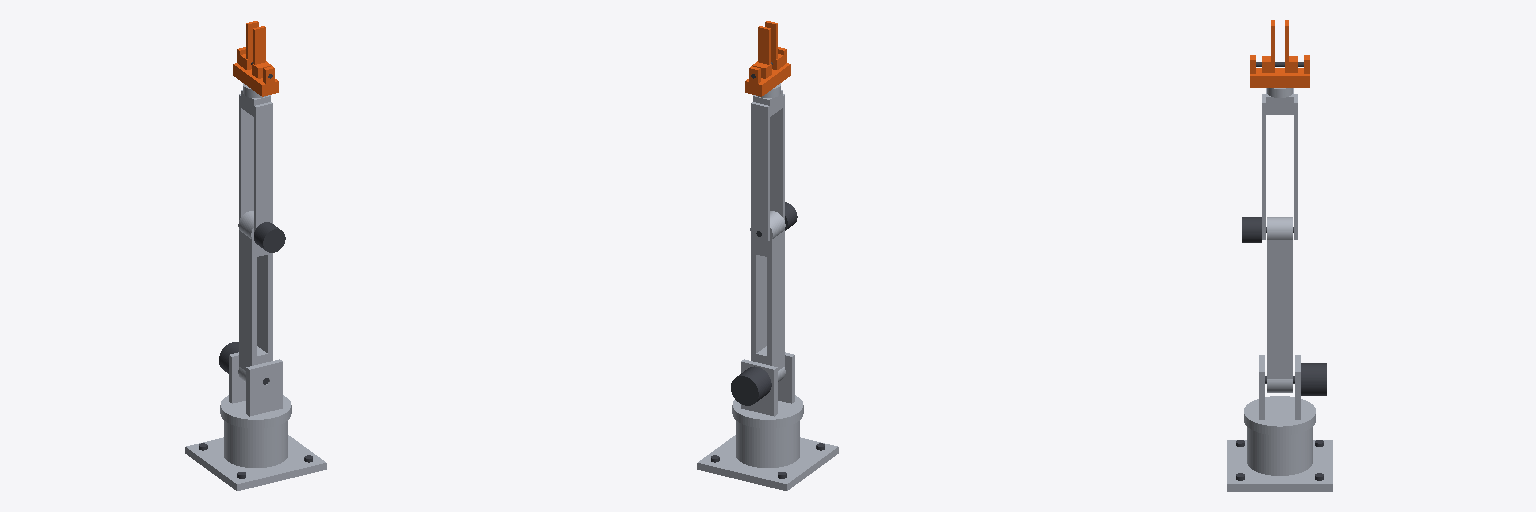
robot.urdf — arm4:
<?xml version='1.0' encoding='utf-8'?>
<robot name="arm4">
  <!-- generated by cad2urdf from cad/arm4.step — do not edit by hand -->
  <material name="aluminum">
    <color rgba="0.72 0.74 0.78 1" />
  </material>
  <material name="steel">
    <color rgba="0.30 0.31 0.34 1" />
  </material>
  <material name="pla">
    <color rgba="0.95 0.45 0.15 1" />
  </material>
  <link name="base_link">
    <inertial>
      <origin xyz="0 0 0.031319" rpy="0 0 0" />
      <mass value="2.31588" />
      <inertia ixx="0.00430245" ixy="-1.61897e-19" ixz="-2.65947e-17" iyy="0.00430245" iyz="1.01294e-19" izz="0.00567686" />
    </inertial>
    <visual name="base_link_aluminum">
      <origin xyz="0 0 0" rpy="0 0 0" />
      <geometry>
        <mesh filename="meshes/visual/base_link_aluminum.stl" />
      </geometry>
      <material name="aluminum" />
    </visual>
    <visual name="base_link_steel">
      <origin xyz="0 0 0" rpy="0 0 0" />
      <geometry>
        <mesh filename="meshes/visual/base_link_steel.stl" />
      </geometry>
      <material name="steel" />
    </visual>
    <collision name="base_link_collision_0">
      <origin xyz="0 0 0.006" rpy="0 0 0" />
      <geometry>
        <box size="0.16 0.16 0.012" />
      </geometry>
    </collision>
    <collision name="base_link_collision_1">
      <origin xyz="0 0 0.047" rpy="0 0 0" />
      <geometry>
        <cylinder radius="0.05" length="0.07" />
      </geometry>
    </collision>
  </link>
  <link name="turret">
    <inertial>
      <origin xyz="0 0.0248244 0.0551163" rpy="0 0 0" />
      <mass value="1.29147" />
      <inertia ixx="0.00267835" ixy="6.45007e-18" ixz="9.90804e-18" iyy="0.00171247" iyz="-0.000733649" izz="0.00190016" />
    </inertial>
    <visual name="turret_aluminum">
      <origin xyz="0 0 0" rpy="0 0 0" />
      <geometry>
        <mesh filename="meshes/visual/turret_aluminum.stl" />
      </geometry>
      <material name="aluminum" />
    </visual>
    <visual name="turret_steel">
      <origin xyz="0 0 0" rpy="0 0 0" />
      <geometry>
        <mesh filename="meshes/visual/turret_steel.stl" />
      </geometry>
      <material name="steel" />
    </visual>
    <collision name="turret_collision_0">
      <origin xyz="0 0 0" rpy="0 0 0" />
      <geometry>
        <mesh filename="meshes/collision/turret_0.stl" />
      </geometry>
    </collision>
    <collision name="turret_collision_1">
      <origin xyz="0 0.027 0.065" rpy="0 0 0" />
      <geometry>
        <box size="0.06 0.01 0.08" />
      </geometry>
    </collision>
    <collision name="turret_collision_2">
      <origin xyz="0 -0.027 0.065" rpy="0 0 0" />
      <geometry>
        <box size="0.06 0.01 0.08" />
      </geometry>
    </collision>
    <collision name="turret_collision_3">
      <origin xyz="0 0.052 0.078" rpy="1.5708 1.5708 0" />
      <geometry>
        <cylinder radius="0.025" length="0.04" />
      </geometry>
    </collision>
  </link>
  <link name="upper_arm">
    <inertial>
      <origin xyz="0 0 0.116984" rpy="0 0 0" />
      <mass value="0.77782" />
      <inertia ixx="0.00724199" ixy="4.01093e-18" ixz="-1.7043e-17" iyy="0.00723782" iyz="8.70378e-19" izz="0.000221003" />
    </inertial>
    <visual name="upper_arm_aluminum">
      <origin xyz="0 0 0" rpy="0 0 0" />
      <geometry>
        <mesh filename="meshes/visual/upper_arm_aluminum.stl" />
      </geometry>
      <material name="aluminum" />
    </visual>
    <visual name="upper_arm_steel">
      <origin xyz="0 0 0" rpy="0 0 0" />
      <geometry>
        <mesh filename="meshes/visual/upper_arm_steel.stl" />
      </geometry>
      <material name="steel" />
    </visual>
    <collision name="upper_arm_collision_0">
      <origin xyz="0 0 0" rpy="0 0 0" />
      <geometry>
        <mesh filename="meshes/collision/upper_arm_0.stl" />
      </geometry>
    </collision>
    <collision name="upper_arm_collision_1">
      <origin xyz="0 0 0" rpy="0 0 0" />
      <geometry>
        <mesh filename="meshes/collision/upper_arm_1.stl" />
      </geometry>
    </collision>
    <collision name="upper_arm_collision_2">
      <origin xyz="0 0 0" rpy="0 0 0" />
      <geometry>
        <mesh filename="meshes/collision/upper_arm_2.stl" />
      </geometry>
    </collision>
    <collision name="upper_arm_collision_3">
      <origin xyz="0 0 0" rpy="0 0 0" />
      <geometry>
        <mesh filename="meshes/collision/upper_arm_3.stl" />
      </geometry>
    </collision>
    <collision name="upper_arm_collision_4">
      <origin xyz="0 0 0" rpy="0 0 0" />
      <geometry>
        <mesh filename="meshes/collision/upper_arm_4.stl" />
      </geometry>
    </collision>
    <collision name="upper_arm_collision_5">
      <origin xyz="0 0 0" rpy="0 0 0" />
      <geometry>
        <mesh filename="meshes/collision/upper_arm_5.stl" />
      </geometry>
    </collision>
    <collision name="upper_arm_collision_6">
      <origin xyz="0 0 0" rpy="0 0 0" />
      <geometry>
        <mesh filename="meshes/collision/upper_arm_6.stl" />
      </geometry>
    </collision>
    <collision name="upper_arm_collision_7">
      <origin xyz="0 0 0" rpy="0 0 0" />
      <geometry>
        <mesh filename="meshes/collision/upper_arm_7.stl" />
      </geometry>
    </collision>
    <collision name="upper_arm_collision_8">
      <origin xyz="0 0 0" rpy="0 0 0" />
      <geometry>
        <mesh filename="meshes/collision/upper_arm_8.stl" />
      </geometry>
    </collision>
    <collision name="upper_arm_collision_9">
      <origin xyz="0 0 0" rpy="0 0 0" />
      <geometry>
        <mesh filename="meshes/collision/upper_arm_9.stl" />
      </geometry>
    </collision>
    <collision name="upper_arm_collision_10">
      <origin xyz="0 0 0" rpy="0 0 0" />
      <geometry>
        <mesh filename="meshes/collision/upper_arm_10.stl" />
      </geometry>
    </collision>
    <collision name="upper_arm_collision_11">
      <origin xyz="0 0 0" rpy="0 0 0" />
      <geometry>
        <mesh filename="meshes/collision/upper_arm_11.stl" />
      </geometry>
    </collision>
    <collision name="upper_arm_collision_12">
      <origin xyz="0 0 0" rpy="0 0 0" />
      <geometry>
        <mesh filename="meshes/collision/upper_arm_12.stl" />
      </geometry>
    </collision>
  </link>
  <link name="forearm">
    <inertial>
      <origin xyz="0 -0.0192266 0.0673338" rpy="0 0 0" />
      <mass value="0.646467" />
      <inertia ixx="0.00531903" ixy="1.81833e-19" ixz="-1.5934e-19" iyy="0.00491554" iyz="-0.000836919" izz="0.000511767" />
    </inertial>
    <visual name="forearm_aluminum">
      <origin xyz="0 0 0" rpy="0 0 0" />
      <geometry>
        <mesh filename="meshes/visual/forearm_aluminum.stl" />
      </geometry>
      <material name="aluminum" />
    </visual>
    <visual name="forearm_steel">
      <origin xyz="0 0 0" rpy="0 0 0" />
      <geometry>
        <mesh filename="meshes/visual/forearm_steel.stl" />
      </geometry>
      <material name="steel" />
    </visual>
    <collision name="forearm_collision_0">
      <origin xyz="0 0.024 0.1025" rpy="0 0 0" />
      <geometry>
        <box size="0.03 0.006 0.235" />
      </geometry>
    </collision>
    <collision name="forearm_collision_1">
      <origin xyz="0 -0.024 0.1025" rpy="0 0 0" />
      <geometry>
        <box size="0.03 0.006 0.235" />
      </geometry>
    </collision>
    <collision name="forearm_collision_2">
      <origin xyz="0 0 0.215" rpy="0 0 0" />
      <geometry>
        <box size="0.03 0.042 0.03" />
      </geometry>
    </collision>
    <collision name="forearm_collision_3">
      <origin xyz="0 0 0" rpy="-1.5708 -1.5708 0" />
      <geometry>
        <cylinder radius="0.005" length="0.054" />
      </geometry>
    </collision>
    <collision name="forearm_collision_4">
      <origin xyz="0 -0.042 0" rpy="-1.5708 1.5708 0" />
      <geometry>
        <cylinder radius="0.02" length="0.03" />
      </geometry>
    </collision>
  </link>
  <link name="gripper_base">
    <inertial>
      <origin xyz="0 0 0.0311419" rpy="0 0 0" />
      <mass value="0.168131" />
      <inertia ixx="0.000133667" ixy="-4.25047e-22" ixz="1.56335e-19" iyy="5.86549e-05" iyz="4.74338e-20" izz="9.60966e-05" />
    </inertial>
    <visual name="gripper_base_aluminum">
      <origin xyz="0 0 0" rpy="0 0 0" />
      <geometry>
        <mesh filename="meshes/visual/gripper_base_aluminum.stl" />
      </geometry>
      <material name="aluminum" />
    </visual>
    <visual name="gripper_base_pla">
      <origin xyz="0 0 0" rpy="0 0 0" />
      <geometry>
        <mesh filename="meshes/visual/gripper_base_pla.stl" />
      </geometry>
      <material name="pla" />
    </visual>
    <visual name="gripper_base_steel">
      <origin xyz="0 0 0" rpy="0 0 0" />
      <geometry>
        <mesh filename="meshes/visual/gripper_base_steel.stl" />
      </geometry>
      <material name="steel" />
    </visual>
    <collision name="gripper_base_collision_0">
      <origin xyz="0 0 0.0075" rpy="3.14159 0 3.14159" />
      <geometry>
        <cylinder radius="0.02" length="0.03" />
      </geometry>
    </collision>
    <collision name="gripper_base_collision_1">
      <origin xyz="0 0 0.0325" rpy="0 0 0" />
      <geometry>
        <box size="0.03 0.09 0.02" />
      </geometry>
    </collision>
    <collision name="gripper_base_collision_2">
      <origin xyz="0 0 0.0545" rpy="-1.5708 -1.5708 0" />
      <geometry>
        <cylinder radius="0.004" length="0.09" />
      </geometry>
    </collision>
    <collision name="gripper_base_collision_3">
      <origin xyz="0 0.041 0.0545" rpy="0 0 0" />
      <geometry>
        <box size="0.016 0.008 0.024" />
      </geometry>
    </collision>
    <collision name="gripper_base_collision_4">
      <origin xyz="0 -0.041 0.0545" rpy="0 0 0" />
      <geometry>
        <box size="0.016 0.008 0.024" />
      </geometry>
    </collision>
  </link>
  <link name="finger_left">
    <inertial>
      <origin xyz="0 -0.00340914 0.0189938" rpy="0 0 0" />
      <mass value="0.0183319" />
      <inertia ixx="1.04928e-05" ixy="4.17577e-22" ixz="-4.82102e-21" iyy="1.07345e-05" iyz="1.25031e-06" izz="1.37101e-06" />
    </inertial>
    <visual name="finger_left_pla">
      <origin xyz="0 0 0" rpy="0 0 0" />
      <geometry>
        <mesh filename="meshes/visual/finger_left_pla.stl" />
      </geometry>
      <material name="pla" />
    </visual>
    <collision name="finger_left_collision_0">
      <origin xyz="0 0 0" rpy="0 0 0" />
      <geometry>
        <mesh filename="meshes/collision/finger_left_0.stl" />
      </geometry>
    </collision>
    <collision name="finger_left_collision_1">
      <origin xyz="0 0 0" rpy="0 0 0" />
      <geometry>
        <mesh filename="meshes/collision/finger_left_1.stl" />
      </geometry>
    </collision>
    <collision name="finger_left_collision_2">
      <origin xyz="0 0 0" rpy="0 0 0" />
      <geometry>
        <mesh filename="meshes/collision/finger_left_2.stl" />
      </geometry>
    </collision>
    <collision name="finger_left_collision_3">
      <origin xyz="0 0 0" rpy="0 0 0" />
      <geometry>
        <mesh filename="meshes/collision/finger_left_3.stl" />
      </geometry>
    </collision>
    <collision name="finger_left_collision_4">
      <origin xyz="0 0 0" rpy="0 0 0" />
      <geometry>
        <mesh filename="meshes/collision/finger_left_4.stl" />
      </geometry>
    </collision>
    <collision name="finger_left_collision_5">
      <origin xyz="0 0 0" rpy="0 0 0" />
      <geometry>
        <mesh filename="meshes/collision/finger_left_5.stl" />
      </geometry>
    </collision>
  </link>
  <link name="finger_right">
    <inertial>
      <origin xyz="0 0.00340914 0.0189938" rpy="0 0 0" />
      <mass value="0.0183319" />
      <inertia ixx="1.04928e-05" ixy="-4.7171e-22" ixz="-4.82102e-21" iyy="1.07345e-05" iyz="-1.25031e-06" izz="1.37101e-06" />
    </inertial>
    <visual name="finger_right_pla">
      <origin xyz="0 0 0" rpy="0 0 0" />
      <geometry>
        <mesh filename="meshes/visual/finger_right_pla.stl" />
      </geometry>
      <material name="pla" />
    </visual>
    <collision name="finger_right_collision_0">
      <origin xyz="0 0 0" rpy="0 0 0" />
      <geometry>
        <mesh filename="meshes/collision/finger_right_0.stl" />
      </geometry>
    </collision>
    <collision name="finger_right_collision_1">
      <origin xyz="0 0 0" rpy="0 0 0" />
      <geometry>
        <mesh filename="meshes/collision/finger_right_1.stl" />
      </geometry>
    </collision>
    <collision name="finger_right_collision_2">
      <origin xyz="0 0 0" rpy="0 0 0" />
      <geometry>
        <mesh filename="meshes/collision/finger_right_2.stl" />
      </geometry>
    </collision>
    <collision name="finger_right_collision_3">
      <origin xyz="0 0 0" rpy="0 0 0" />
      <geometry>
        <mesh filename="meshes/collision/finger_right_3.stl" />
      </geometry>
    </collision>
    <collision name="finger_right_collision_4">
      <origin xyz="0 0 0" rpy="0 0 0" />
      <geometry>
        <mesh filename="meshes/collision/finger_right_4.stl" />
      </geometry>
    </collision>
    <collision name="finger_right_collision_5">
      <origin xyz="0 0 0" rpy="0 0 0" />
      <geometry>
        <mesh filename="meshes/collision/finger_right_5.stl" />
      </geometry>
    </collision>
  </link>
  <joint name="shoulder_yaw" type="revolute">
    <origin xyz="0 0 0.072" rpy="0 0 0" />
    <parent link="base_link" />
    <child link="turret" />
    <axis xyz="0 0 1" />
    <limit lower="-2.97" upper="2.97" effort="40" velocity="3" />
    <dynamics damping="0.5" friction="0.05" />
  </joint>
  <joint name="shoulder_pitch" type="revolute">
    <origin xyz="0 0 0.078" rpy="0 0 0" />
    <parent link="turret" />
    <child link="upper_arm" />
    <axis xyz="0 1 0" />
    <limit lower="-1.75" upper="1.75" effort="40" velocity="3" />
    <dynamics damping="0.5" friction="0.05" />
  </joint>
  <joint name="elbow" type="revolute">
    <origin xyz="0 0 0.25" rpy="0 0 0" />
    <parent link="upper_arm" />
    <child link="forearm" />
    <axis xyz="0 1 0" />
    <limit lower="-2.35" upper="2.35" effort="20" velocity="3" />
    <dynamics damping="0.5" friction="0.05" />
  </joint>
  <joint name="wrist_roll" type="revolute">
    <origin xyz="0 0 0.2225" rpy="0 0 0" />
    <parent link="forearm" />
    <child link="gripper_base" />
    <axis xyz="0 0 1" />
    <limit lower="-3.14" upper="3.14" effort="5" velocity="6" />
    <dynamics damping="0.5" friction="0.05" />
  </joint>
  <joint name="finger_left" type="prismatic">
    <origin xyz="0 0.018 0.0545" rpy="0 0 0" />
    <parent link="gripper_base" />
    <child link="finger_left" />
    <axis xyz="0 1 0" />
    <limit lower="-0.006" upper="0.008" effort="20" velocity="0.1" />
    <dynamics damping="2" friction="0.5" />
  </joint>
  <joint name="finger_right" type="prismatic">
    <origin xyz="0 -0.018 0.0545" rpy="0 0 0" />
    <parent link="gripper_base" />
    <child link="finger_right" />
    <axis xyz="0 -1 0" />
    <limit lower="-0.006" upper="0.008" effort="20" velocity="0.1" />
    <dynamics damping="2" friction="0.5" />
    <mimic joint="finger_left" multiplier="1" offset="0" />
  </joint>
</robot>

--- Facts derived from the render (not from the file) ---
3 views of the same robot in one strip: view 1: azimuth 30°, elevation 25°; view 2: azimuth 150°, elevation 25°; view 3: azimuth 270°, elevation 25° (orthographic).
Robot: arm4 — 7 links, 6 joints (4 revolute, 2 prismatic); root link base_link; default pose: every joint at zero.
Links seen in each view (by area): view 1: base_link, forearm, upper_arm, turret, gripper_base, finger_right; view 2: base_link, forearm, upper_arm, turret, gripper_base, finger_left; view 3: base_link, upper_arm, turret, forearm, gripper_base.
Boxes of the visible links, bbox=[...] form: base_link: bbox=[185, 421, 326, 490]; forearm: bbox=[239, 90, 285, 252]; upper_arm: bbox=[238, 211, 272, 384]; turret: bbox=[219, 342, 291, 428]; gripper_base: bbox=[233, 47, 278, 97]; finger_right: bbox=[252, 26, 271, 78]; base_link: bbox=[697, 421, 838, 490]; forearm: bbox=[751, 90, 797, 242]; upper_arm: bbox=[750, 211, 785, 381]; turret: bbox=[731, 352, 803, 428]; gripper_base: bbox=[745, 47, 790, 97]; finger_left: bbox=[752, 26, 771, 78]; base_link: bbox=[1227, 427, 1332, 491]; upper_arm: bbox=[1265, 217, 1294, 392]; turret: bbox=[1244, 355, 1326, 435]; forearm: bbox=[1242, 88, 1297, 242]; gripper_base: bbox=[1250, 55, 1309, 97].
Bounding box of the posed robot: 0.16 × 0.16 × 0.746 m (x, y, z).
13 mesh visuals loaded from 13 distinct referenced files (13 binary STL).
